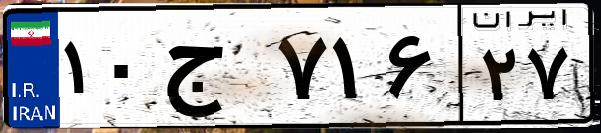0: (110, 28, 158, 98)
1: (330, 28, 385, 110), (57, 26, 110, 100)
2: (475, 38, 525, 113)
6: (385, 28, 445, 110)
7: (270, 28, 330, 110), (525, 38, 570, 115)
ج: (158, 20, 270, 120)
